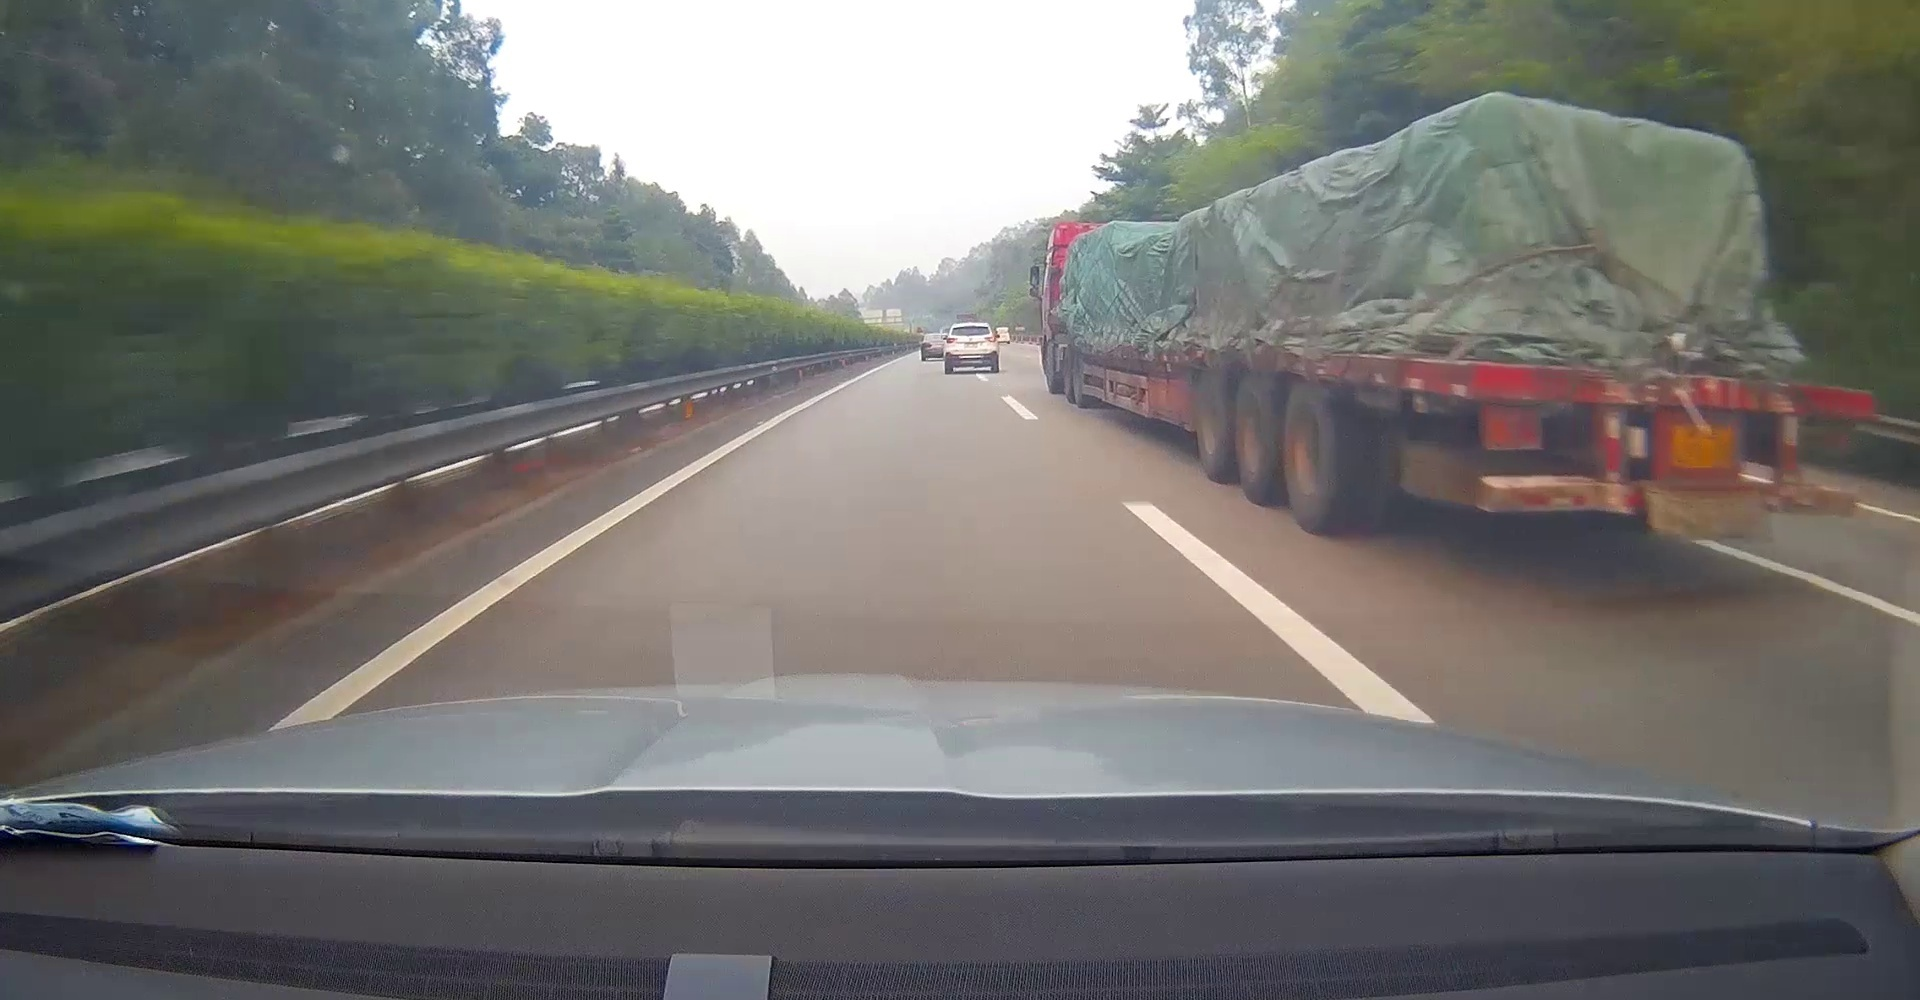L_light: (1478, 402, 1543, 451), (946, 338, 957, 344)
R_light: (1817, 416, 1863, 456), (984, 336, 996, 343)
T_light: (1655, 378, 1709, 393), (965, 325, 975, 327)
day-no: (1468, 358, 1873, 543), (943, 322, 999, 374)
